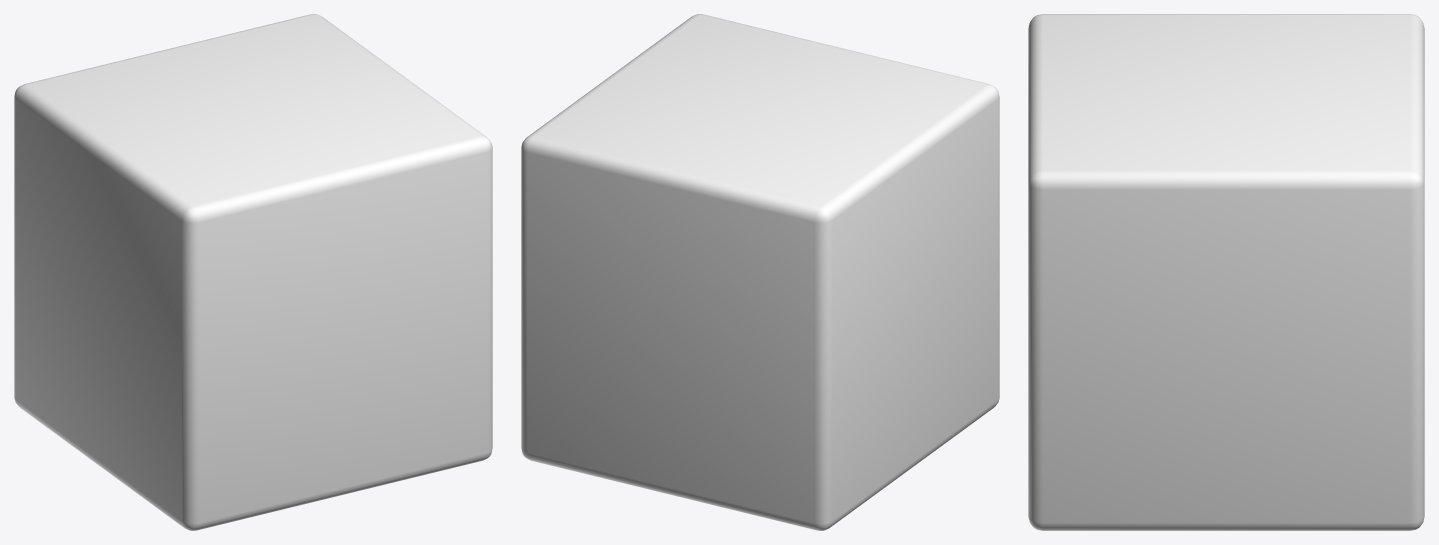
Rendered from white_medium_small_square.glb.
3 views of the same model, side by side, from view 1: azimuth 30°, elevation 25°; view 2: azimuth 150°, elevation 25°; view 3: azimuth 270°, elevation 25° (orthographic). The views are drawn at different scales.
Visible parts, largest first — view 1: brown_square.006; view 2: brown_square.006; view 3: brown_square.006.
Boxes of the visible parts, x1=… form: brown_square.006: x1=14, y1=14, x2=492, y2=530; brown_square.006: x1=521, y1=14, x2=999, y2=530; brown_square.006: x1=1028, y1=14, x2=1424, y2=530.
Bounding box in the file's own units: 1.07 × 1.07 × 1.07.
1 material, 1 textured.
